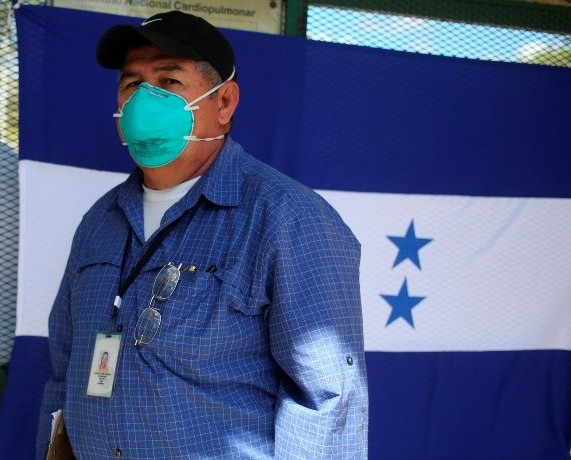with_mask: (104, 35, 235, 175)
